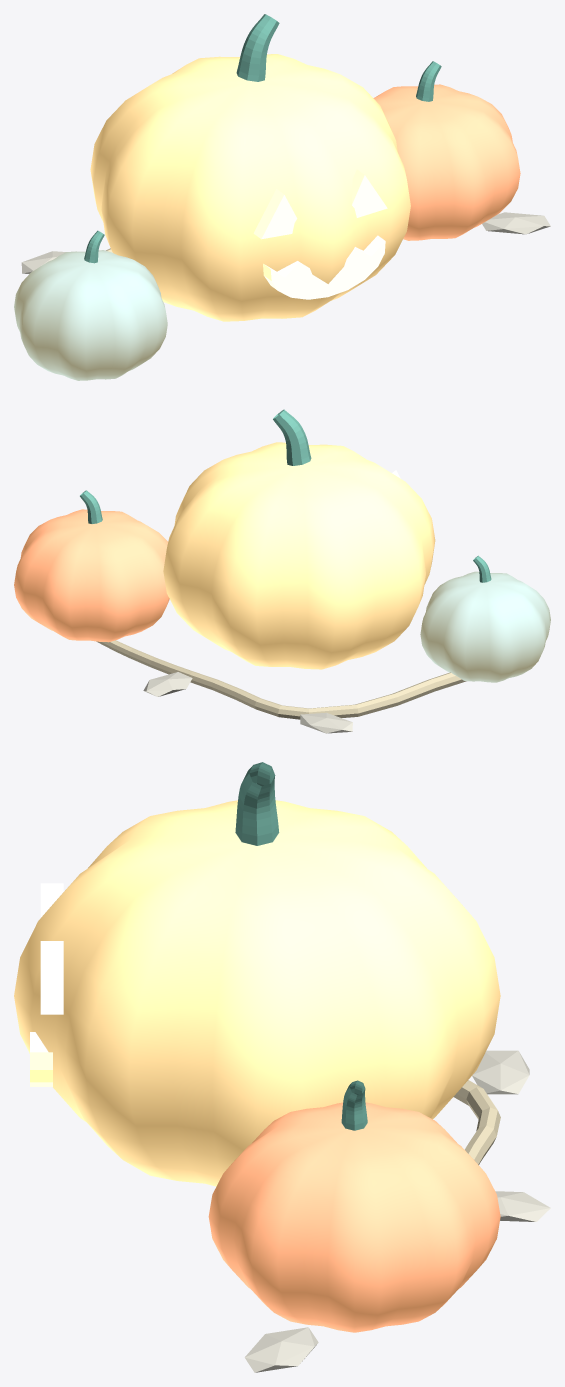
Rendered from halloween_pumpkins.glb.
3 views of the same model, one above another, from view 1: azimuth 30°, elevation 25°; view 2: azimuth 150°, elevation 25°; view 3: azimuth 270°, elevation 25° (orthographic). The views are drawn at different scales.
Parts seen in each view (by area): view 1: Patch, Glow; view 2: Patch; view 3: Patch, Glow.
Boxes of the visible parts, x1,y1,x2,y2 form: Patch: (14, 14, 550, 380); Glow: (253, 169, 387, 299); Patch: (14, 409, 550, 733); Patch: (14, 762, 550, 1372); Glow: (30, 883, 63, 1086).
Bounding box in the file's own units: 1.94 × 0.9513 × 1.1.
